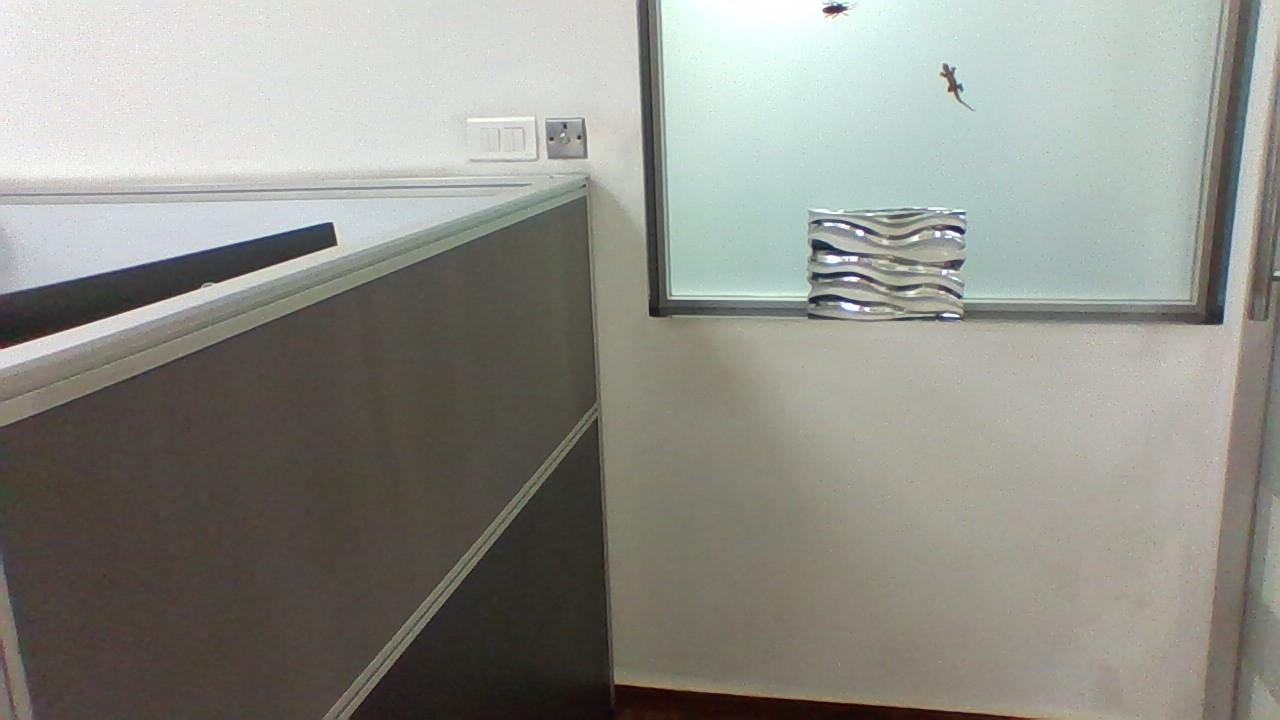cockroach: (802, 2, 867, 32)
lizard: (930, 56, 989, 119)
